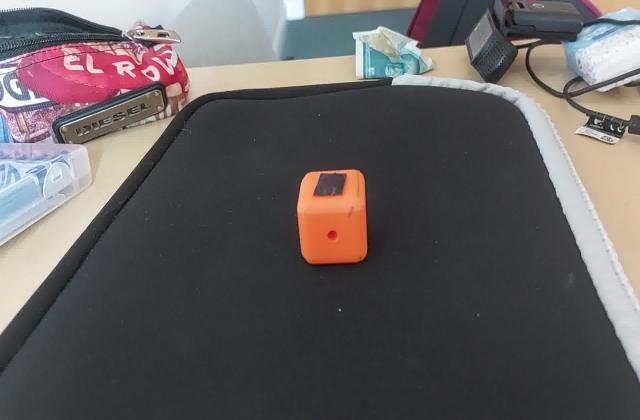black: (310, 172, 350, 198)
cube: (293, 170, 368, 270)
